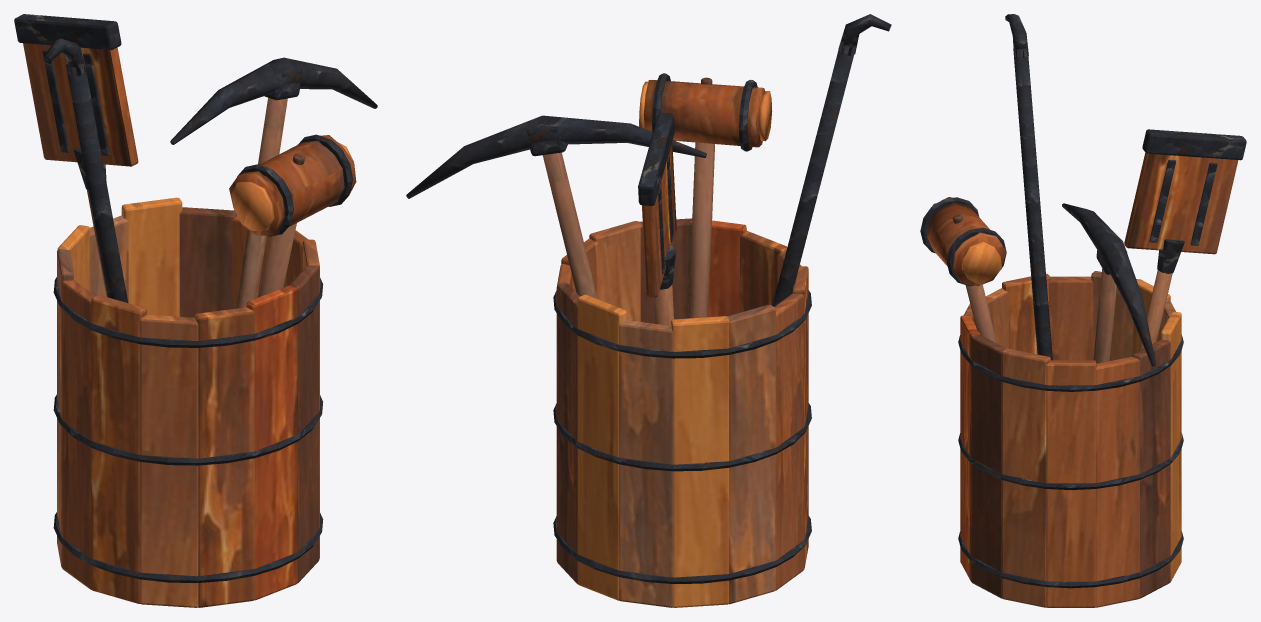
The model's file is mp_tool_barrel.glb.
3 renders of one model, left to right at view 1: azimuth 30°, elevation 25°; view 2: azimuth 150°, elevation 25°; view 3: azimuth 270°, elevation 25°, orthographic. The views are drawn at different scales.
Visible parts, largest first — view 1: model; view 2: model; view 3: model.
Boxes of the visible parts, x1,y1,x2,y2 form: model: (14,14,377,607); model: (406,14,891,607); model: (920,14,1246,607).
Size of the model in its own units: 0.8947 by 1.18 by 0.7231.
14 materials, 14 textured.
